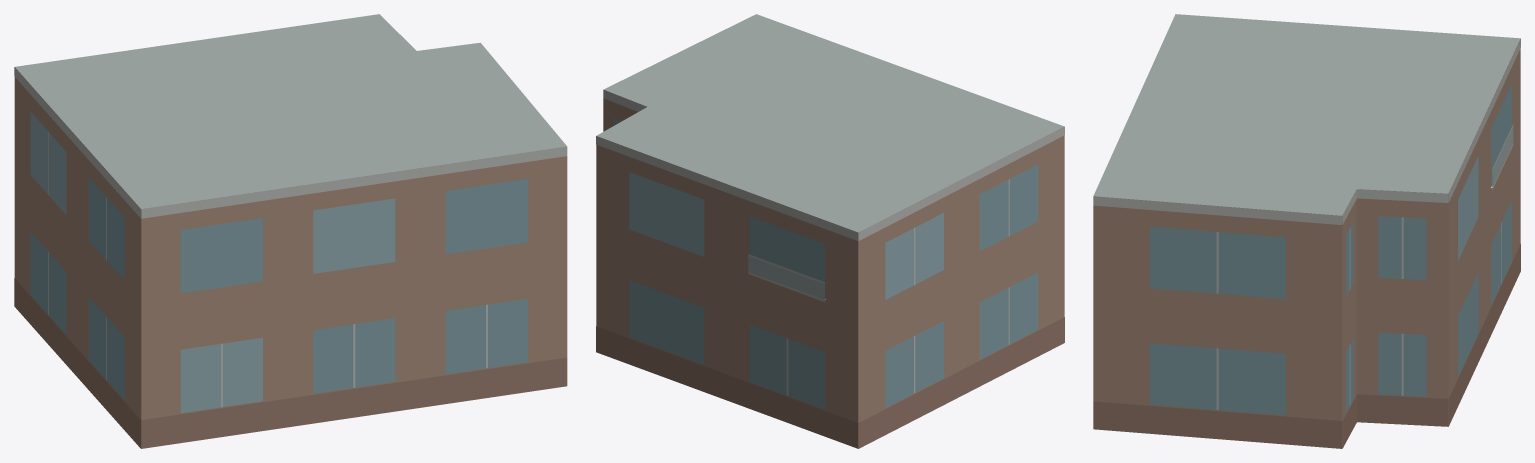
File: survey-upis-33024000.glb
The picture shows the model from 3 angles, left to right: view 1: azimuth 30°, elevation 25°; view 2: azimuth 150°, elevation 25°; view 3: azimuth 270°, elevation 25°; orthographic projection. The views are drawn at different scales.
Parts seen in each view (by area): view 1: survey-upis-33024000.tmp; view 2: survey-upis-33024000.tmp; view 3: survey-upis-33024000.tmp.
Boxes of the visible parts, bbox=[...] form: survey-upis-33024000.tmp: bbox=[14, 14, 567, 448]; survey-upis-33024000.tmp: bbox=[596, 14, 1064, 448]; survey-upis-33024000.tmp: bbox=[1093, 14, 1520, 448].
Size of the model in its own units: 11.34 by 6.1 by 10.15.
